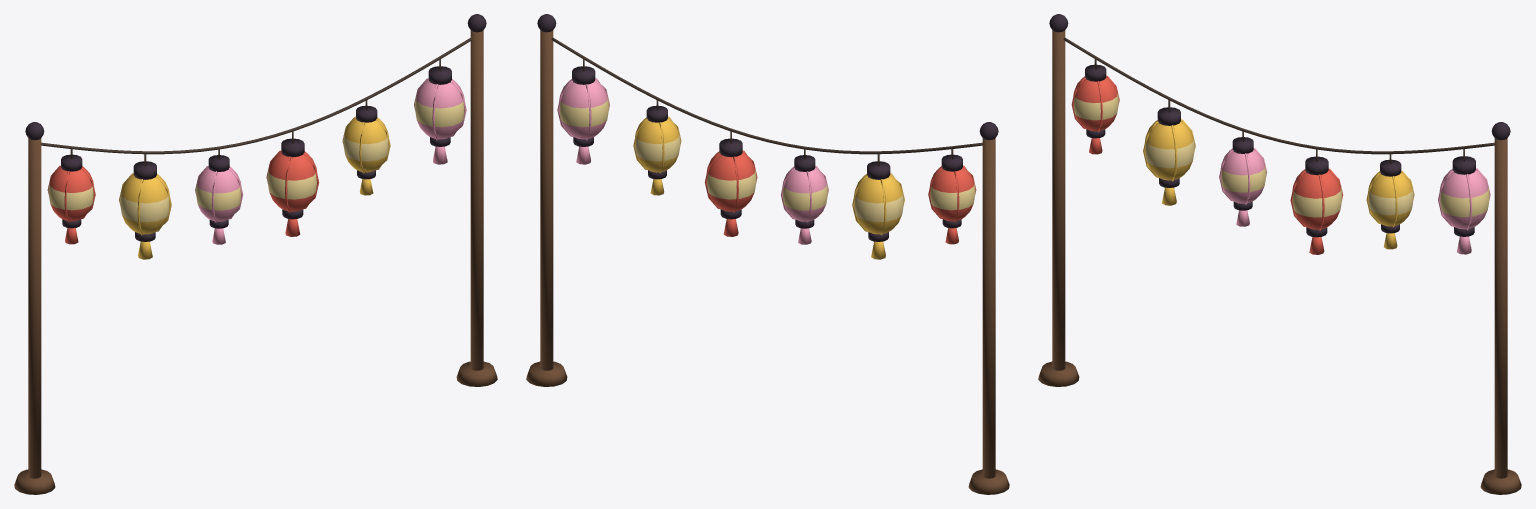
File: night-lanterns.glb
The picture shows the model from 3 angles, left to right: view 1: azimuth 30°, elevation 25°; view 2: azimuth 150°, elevation 25°; view 3: azimuth 330°, elevation 25°; orthographic projection.
Visible parts, largest first — view 1: lanterns; view 2: lanterns; view 3: lanterns.
Part boxes in pixels (<box>): lanterns: <box>14,14,497,494</box>; lanterns: <box>526,14,1009,494</box>; lanterns: <box>1038,14,1521,494</box>.
Bounding box in the file's own units: 2.91 × 2.12 × 0.274.
